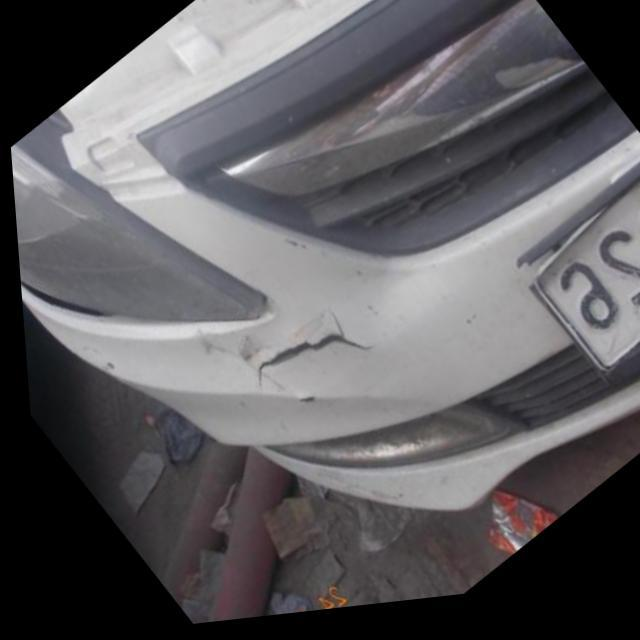crack: (238, 313, 372, 402)
scratch: (185, 324, 276, 398)
